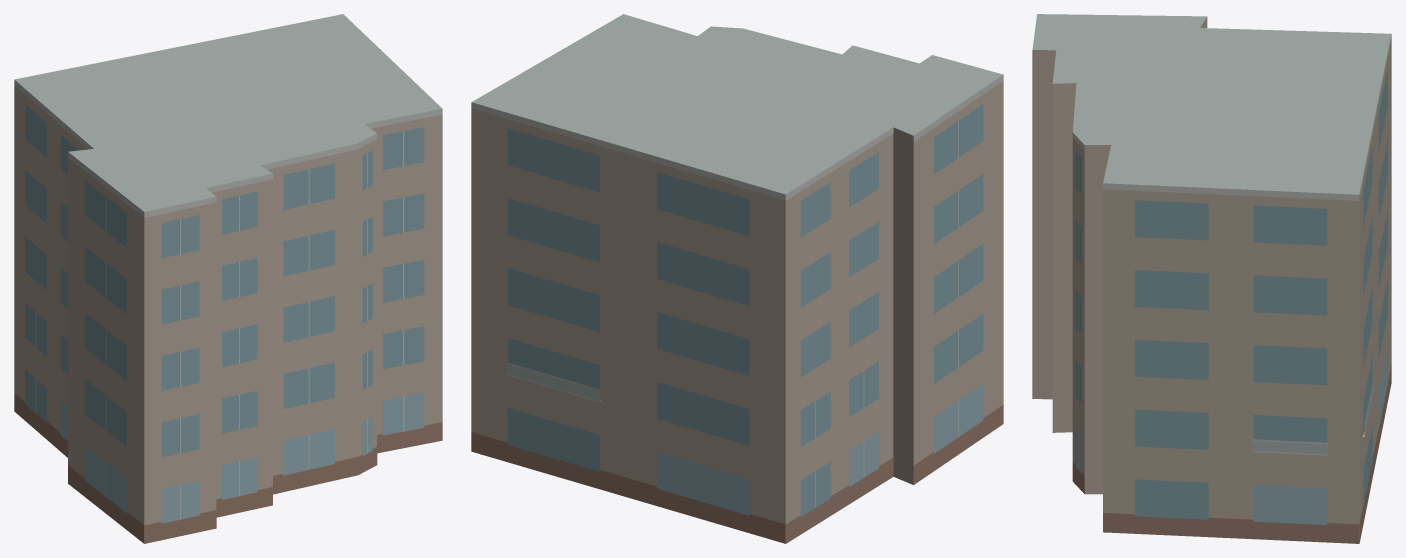
File: survey-upis-32597952.glb
3 views of the same model, side by side, from view 1: azimuth 30°, elevation 25°; view 2: azimuth 150°, elevation 25°; view 3: azimuth 270°, elevation 25° (orthographic). The views are drawn at different scales.
Visible parts, largest first — view 1: survey-upis-32597952.tmp; view 2: survey-upis-32597952.tmp; view 3: survey-upis-32597952.tmp.
Boxes of the visible parts, x1,y1,x2,y2 form: survey-upis-32597952.tmp: (14, 14, 442, 543); survey-upis-32597952.tmp: (471, 14, 1003, 543); survey-upis-32597952.tmp: (1032, 14, 1391, 543).
Bounding box in the file's own units: 15.45 × 13.9 × 12.97.
